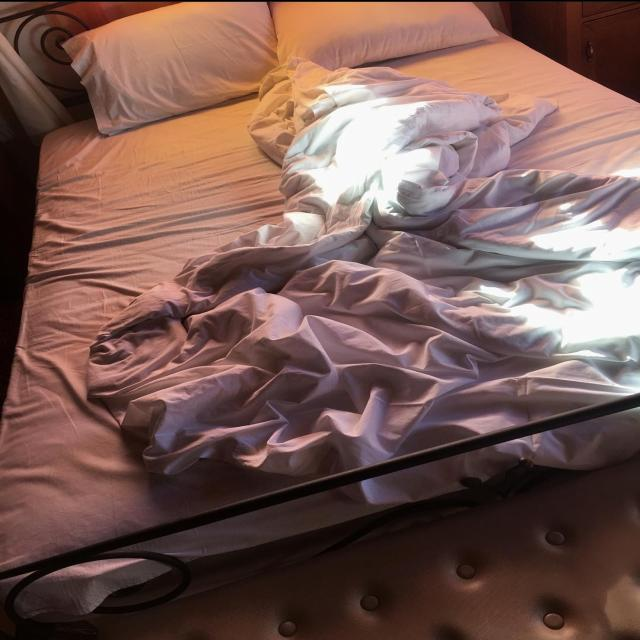bed: (12, 22, 640, 530)
